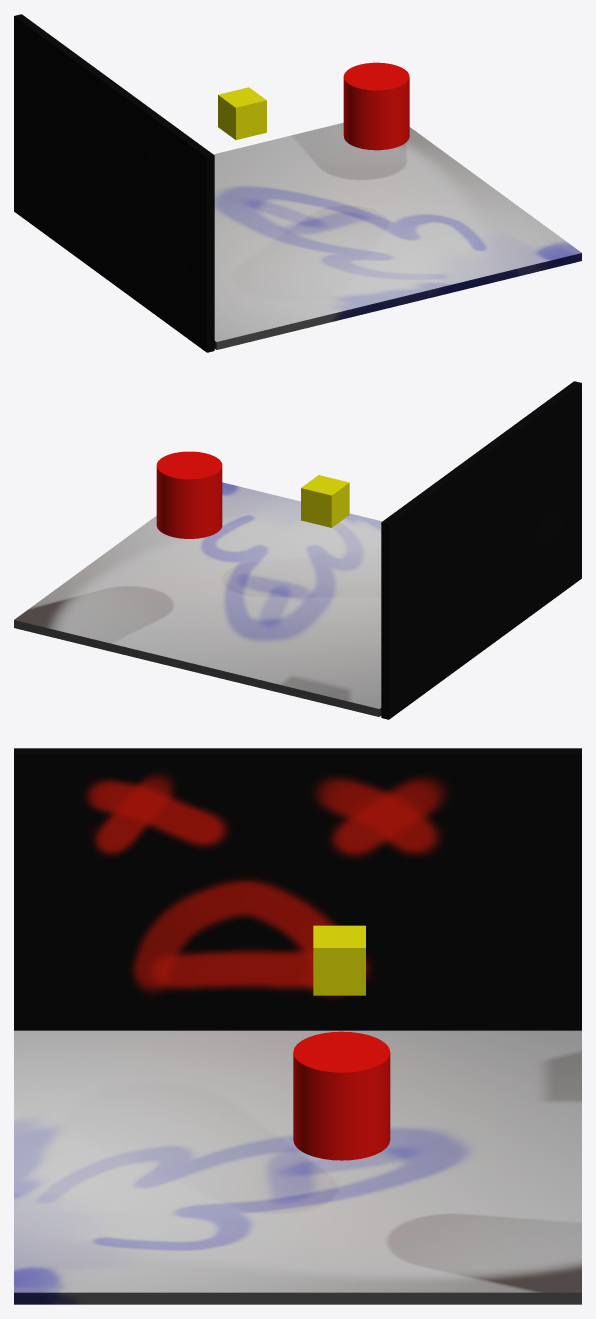
3 views of the same model, one above another, from view 1: azimuth 30°, elevation 25°; view 2: azimuth 150°, elevation 25°; view 3: azimuth 270°, elevation 25° (orthographic). The views are drawn at different scales.
Visible parts, largest first — view 1: Floor, Wall, Cylinder, Cube; view 2: Floor, Wall, Cylinder, Cube; view 3: Wall, Floor, Cylinder, Cube.
Part boxes in pixels (bbox=[...]): Floor: bbox=[213, 122, 581, 349]; Wall: bbox=[14, 14, 214, 352]; Cylinder: bbox=[343, 62, 409, 150]; Cube: bbox=[218, 87, 266, 139]; Floor: bbox=[14, 482, 382, 716]; Wall: bbox=[381, 381, 581, 719]; Cylinder: bbox=[156, 451, 222, 538]; Cube: bbox=[301, 475, 349, 527]; Wall: bbox=[14, 748, 581, 1030]; Floor: bbox=[14, 1030, 581, 1304]; Cylinder: bbox=[293, 1031, 390, 1160]; Cube: bbox=[313, 925, 365, 995].
Bounding box in the file's own units: 24.22 × 12.07 × 21.6.
Materials: 4 (2 with a texture image).
